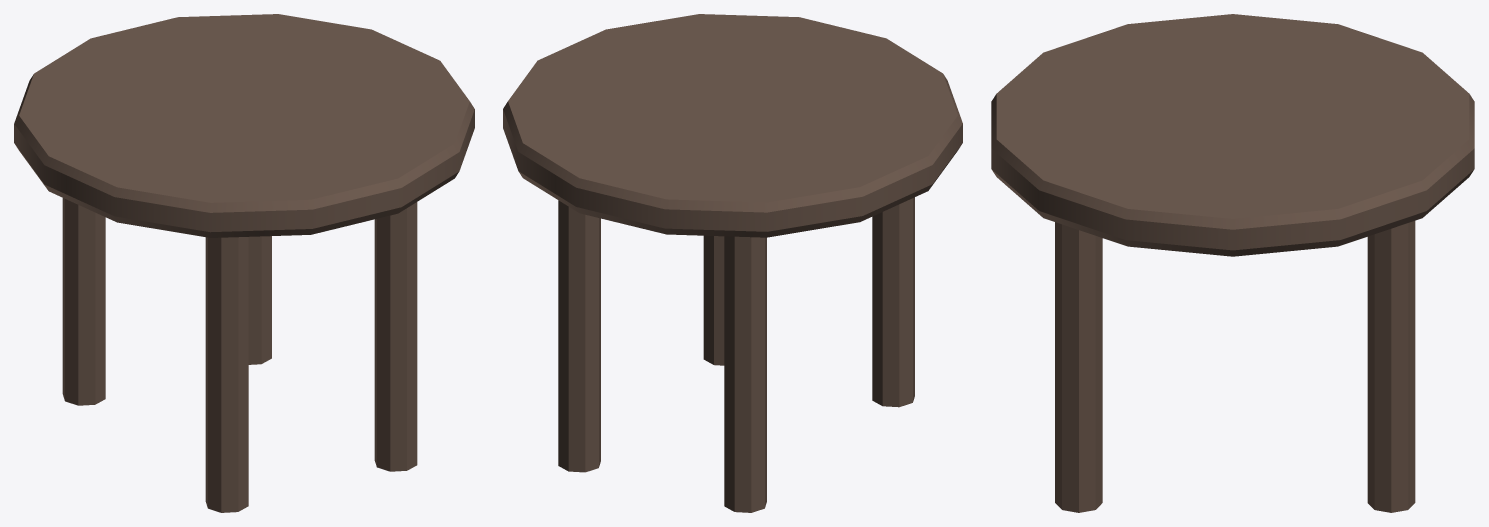
File: Cocina_MesaCircular_08.fbx
3 renders of one model, left to right at view 1: azimuth 30°, elevation 25°; view 2: azimuth 150°, elevation 25°; view 3: azimuth 270°, elevation 25°, orthographic. The views are drawn at different scales.
Parts seen in each view (by area): view 1: mesa circular; view 2: mesa circular; view 3: mesa circular.
Boxes of the visible parts, x1,y1,x2,y2 form: mesa circular: (14,14,474,512); mesa circular: (503,14,962,512); mesa circular: (991,14,1474,512).
Bounding box in the file's own units: 95.56 × 73.3 × 93.17.
Materials: 1 (1 with a texture image).
